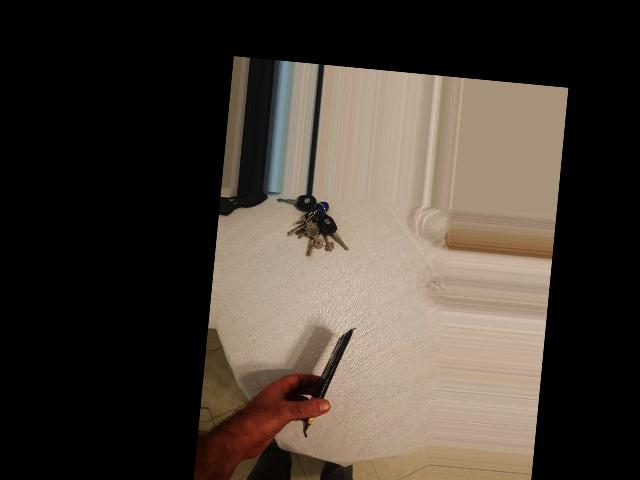chocolate: (291, 317, 362, 431)
